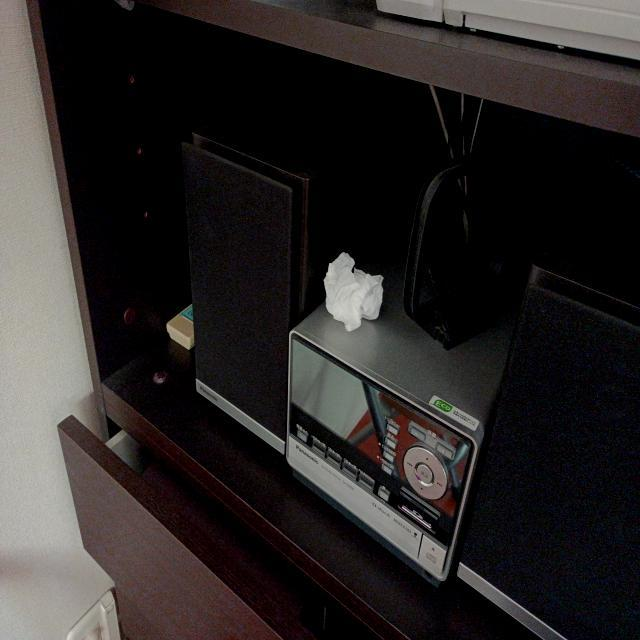Paper: (314, 244, 389, 331)
